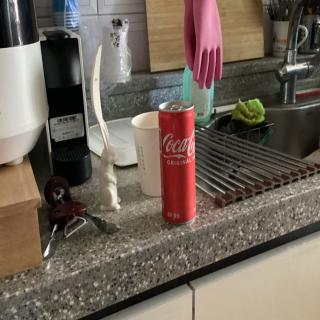cocacola: (157, 99, 200, 226)
